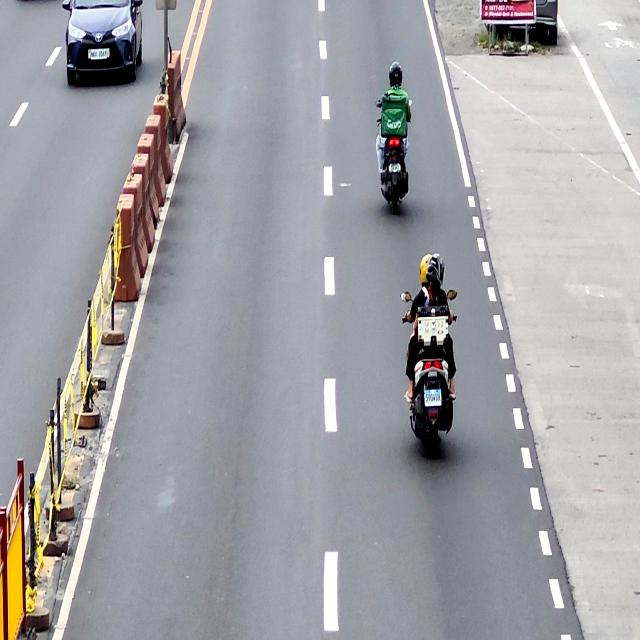License-Plate: (424, 391, 442, 407), (387, 162, 402, 172)
Motorcycle: (400, 288, 460, 455), (375, 93, 413, 215)
